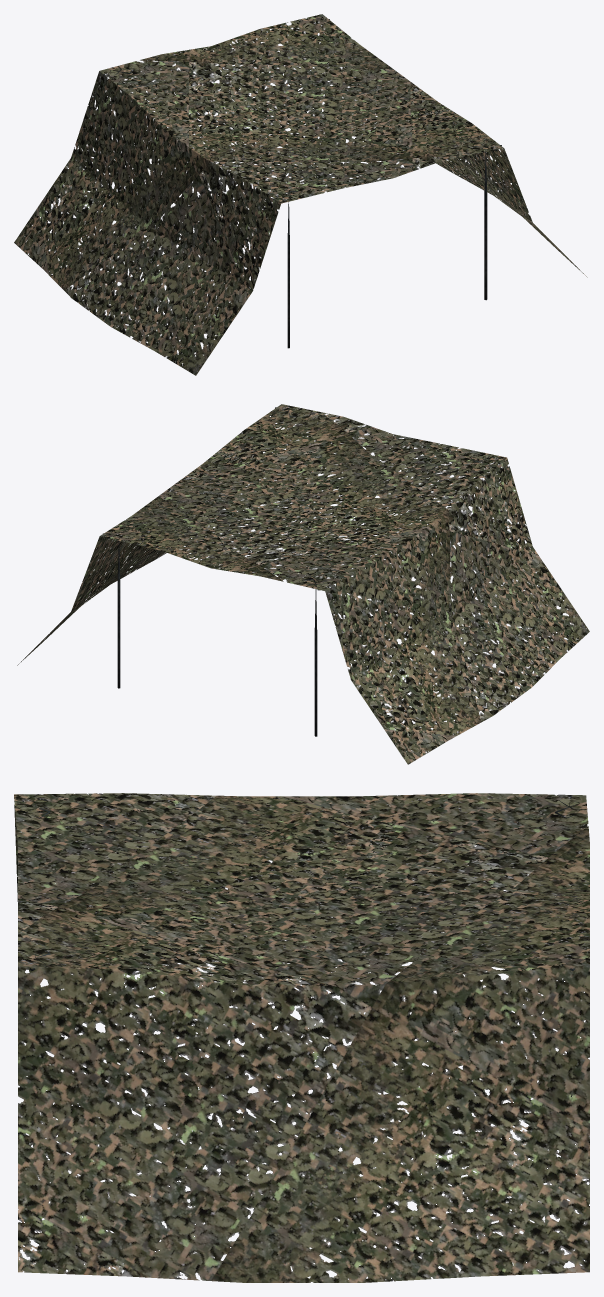
File: CamoNet01.obj
3 views of the same model, one above another, from view 1: azimuth 30°, elevation 25°; view 2: azimuth 150°, elevation 25°; view 3: azimuth 270°, elevation 25° (orthographic). The views are drawn at different scales.
Parts seen in each view (by area): view 1: CamoNet01, CamoNetSupport; view 2: CamoNet01, CamoNetSupport; view 3: CamoNet01.
Part boxes in pixels (left/top/right/bottom): CamoNet01: left=14, top=14, right=587, bottom=375; CamoNetSupport: left=104, top=19, right=501, bottom=348; CamoNet01: left=17, top=404, right=589, bottom=764; CamoNetSupport: left=103, top=407, right=499, bottom=736; CamoNet01: left=14, top=793, right=589, bottom=1282.
Size of the model in its own units: 21.4 by 7.6 by 16.11.
